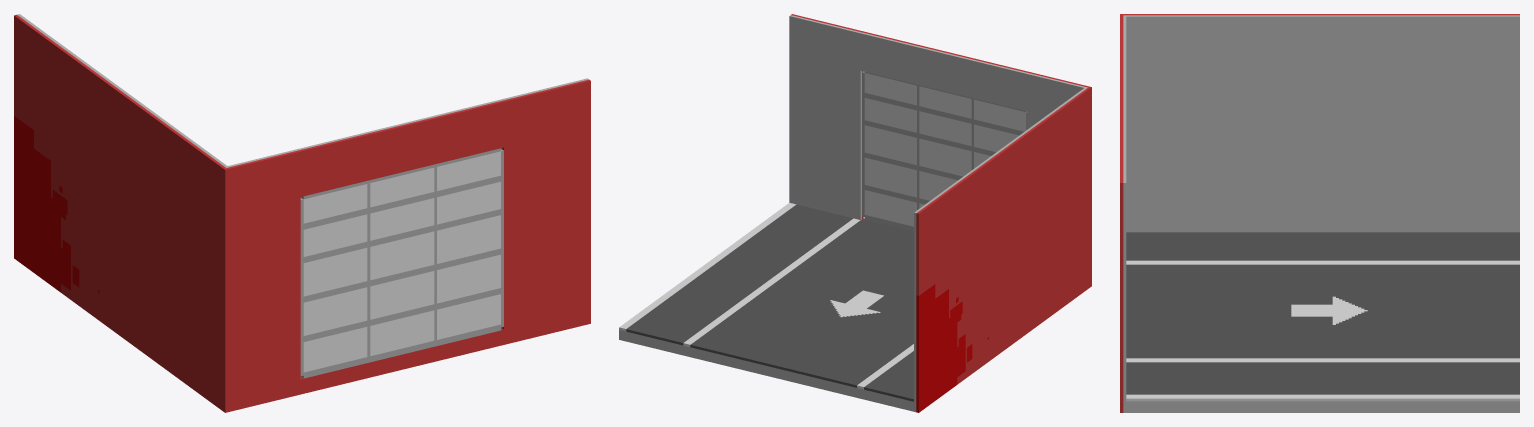
The model's file is 4x2 first (1)-1.obj.
3 renders of one model, left to right at view 1: azimuth 30°, elevation 25°; view 2: azimuth 150°, elevation 25°; view 3: azimuth 270°, elevation 25°, orthographic. The views are drawn at different scales.
Visible parts, largest first — view 1: 4x2 first (1)-1; view 2: 4x2 first (1)-1; view 3: 4x2 first (1)-1.
Part boxes in pixels (x1,y1,x2,y2): 4x2 first (1)-1: (14,14,590,412); 4x2 first (1)-1: (619,14,1091,412); 4x2 first (1)-1: (1120,14,1519,412).
Size of the model in its own units: 126 by 80 by 126.
1 material, 1 textured.
